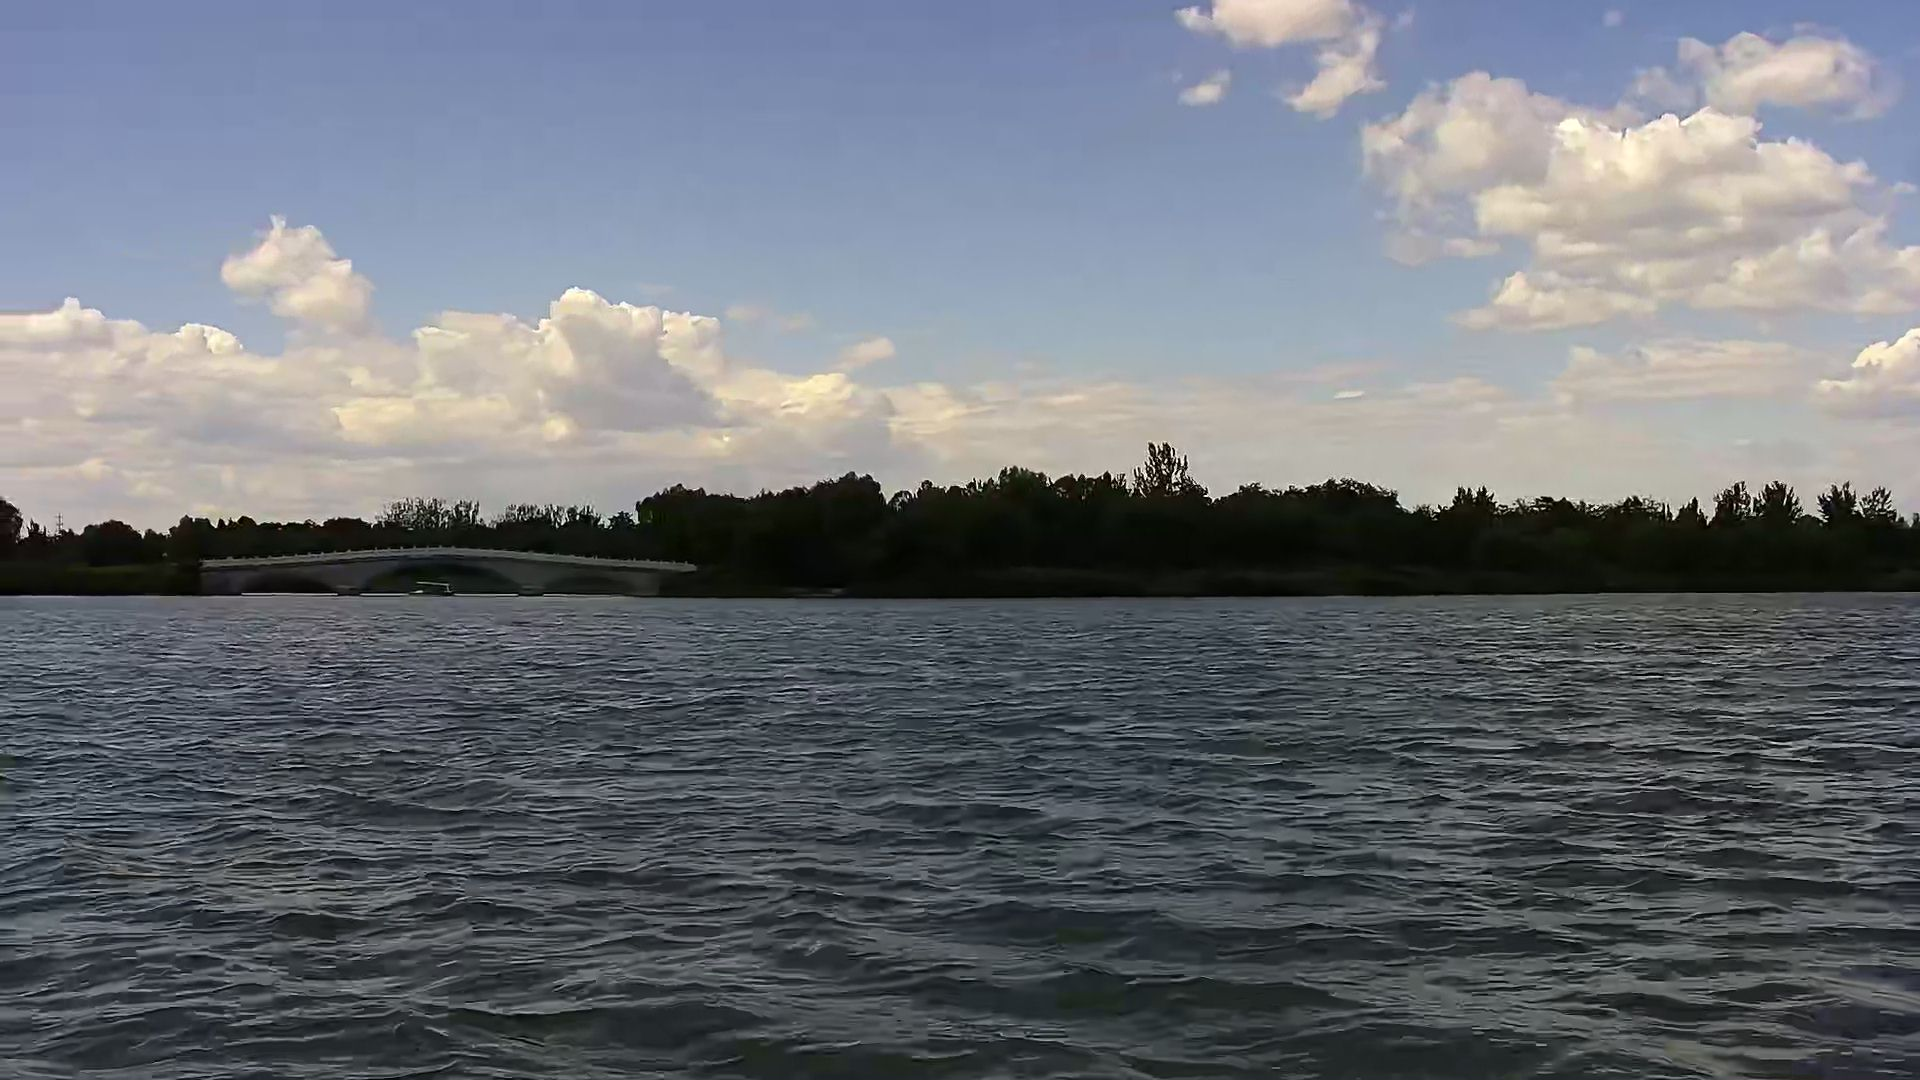boat: (413, 576, 462, 603)
bridge: (189, 539, 698, 601)
